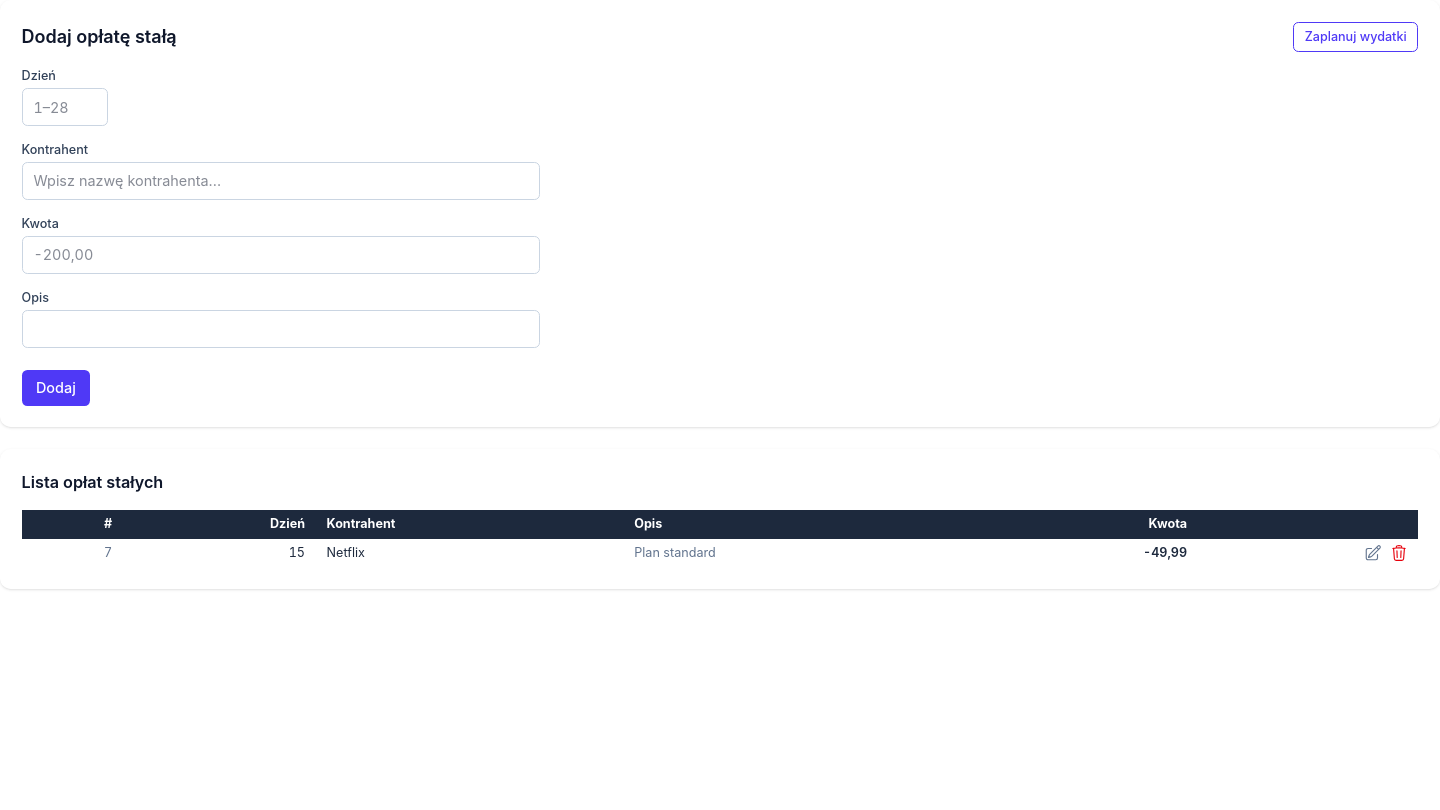
FixedExpensesPage › plans nothing when the planning is cancelled
Click the button "Zaplanuj wydatki": click(1356, 37) [1293,22,1418,52]
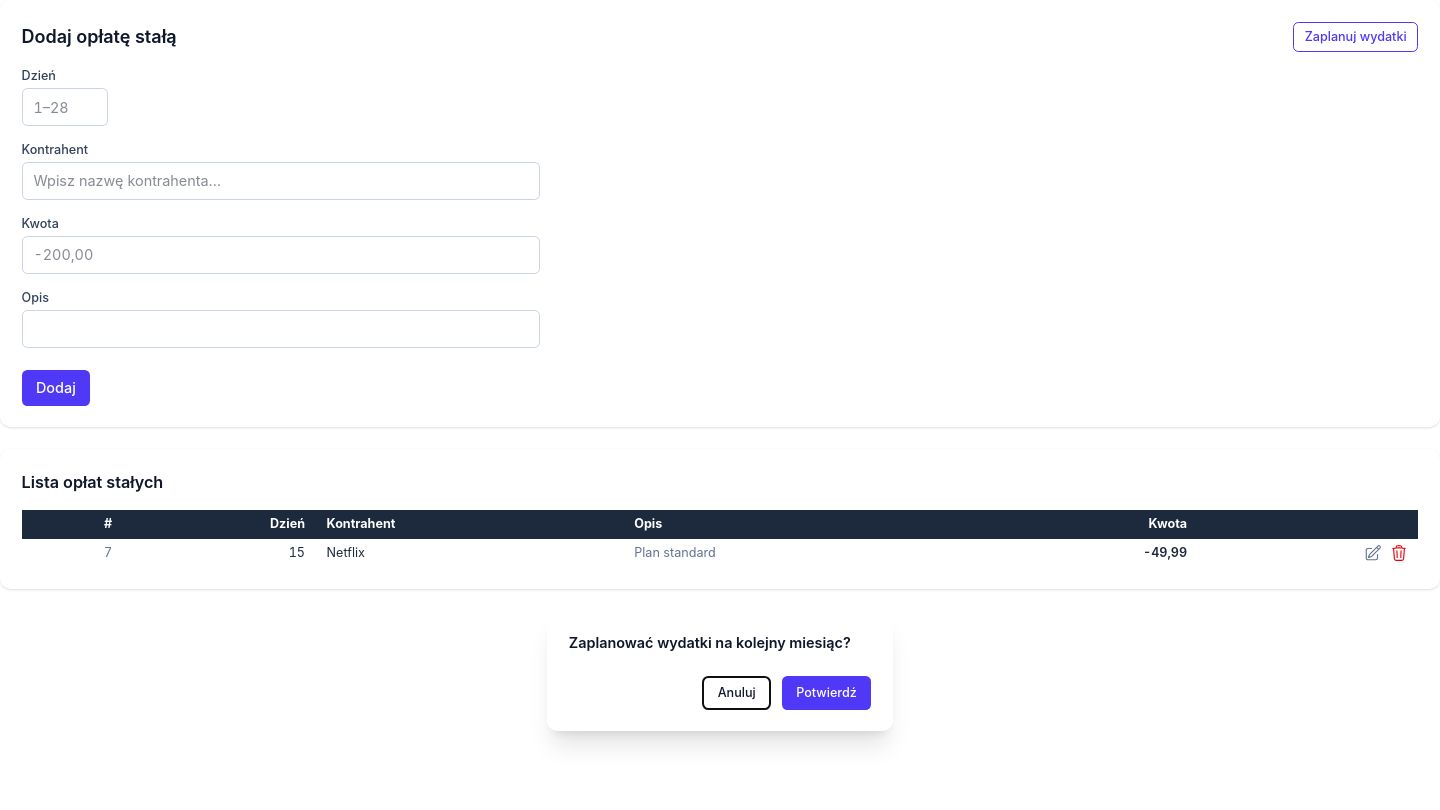
Click the button "Anuluj": click(737, 693) [702,676,771,710]
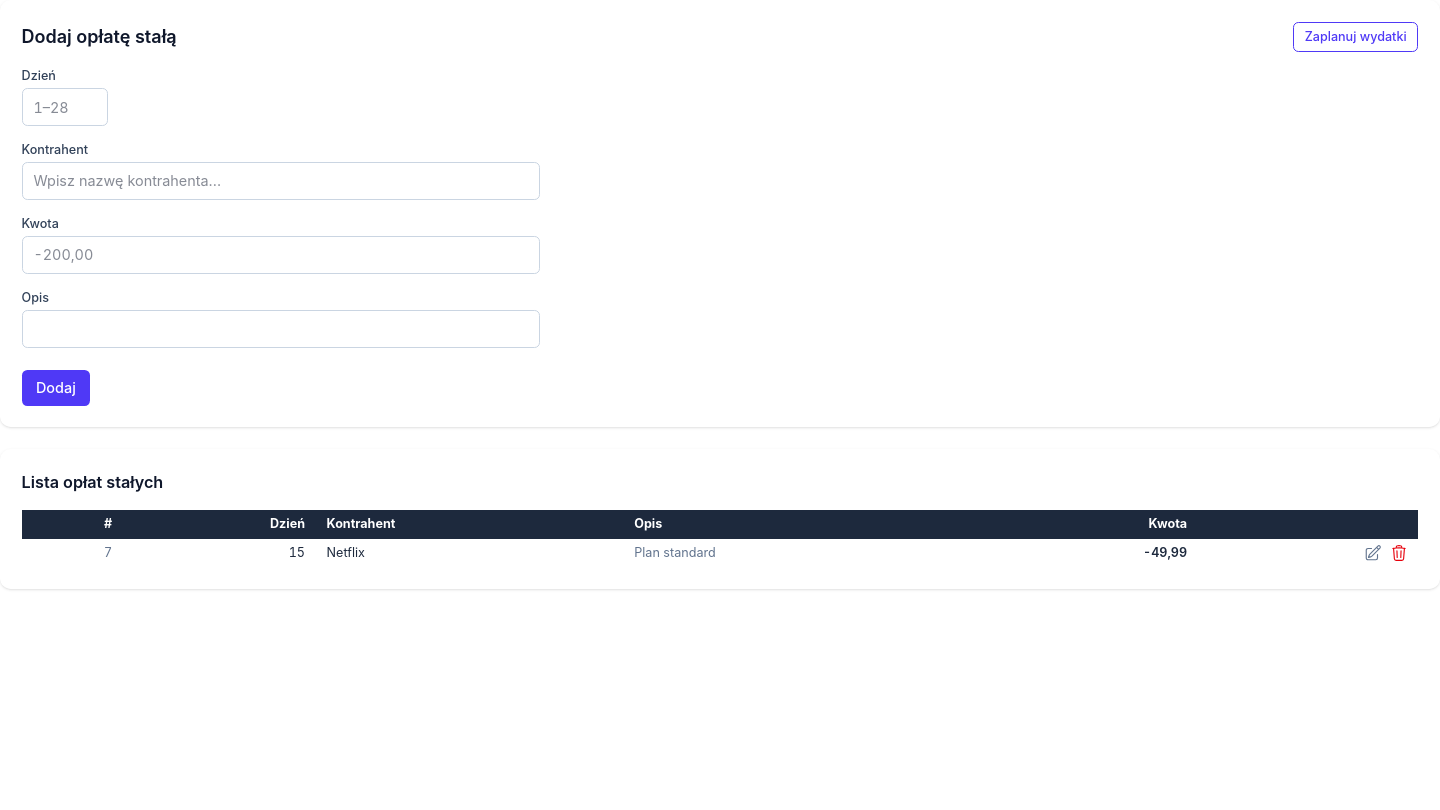
expect the dialog is gone: met
